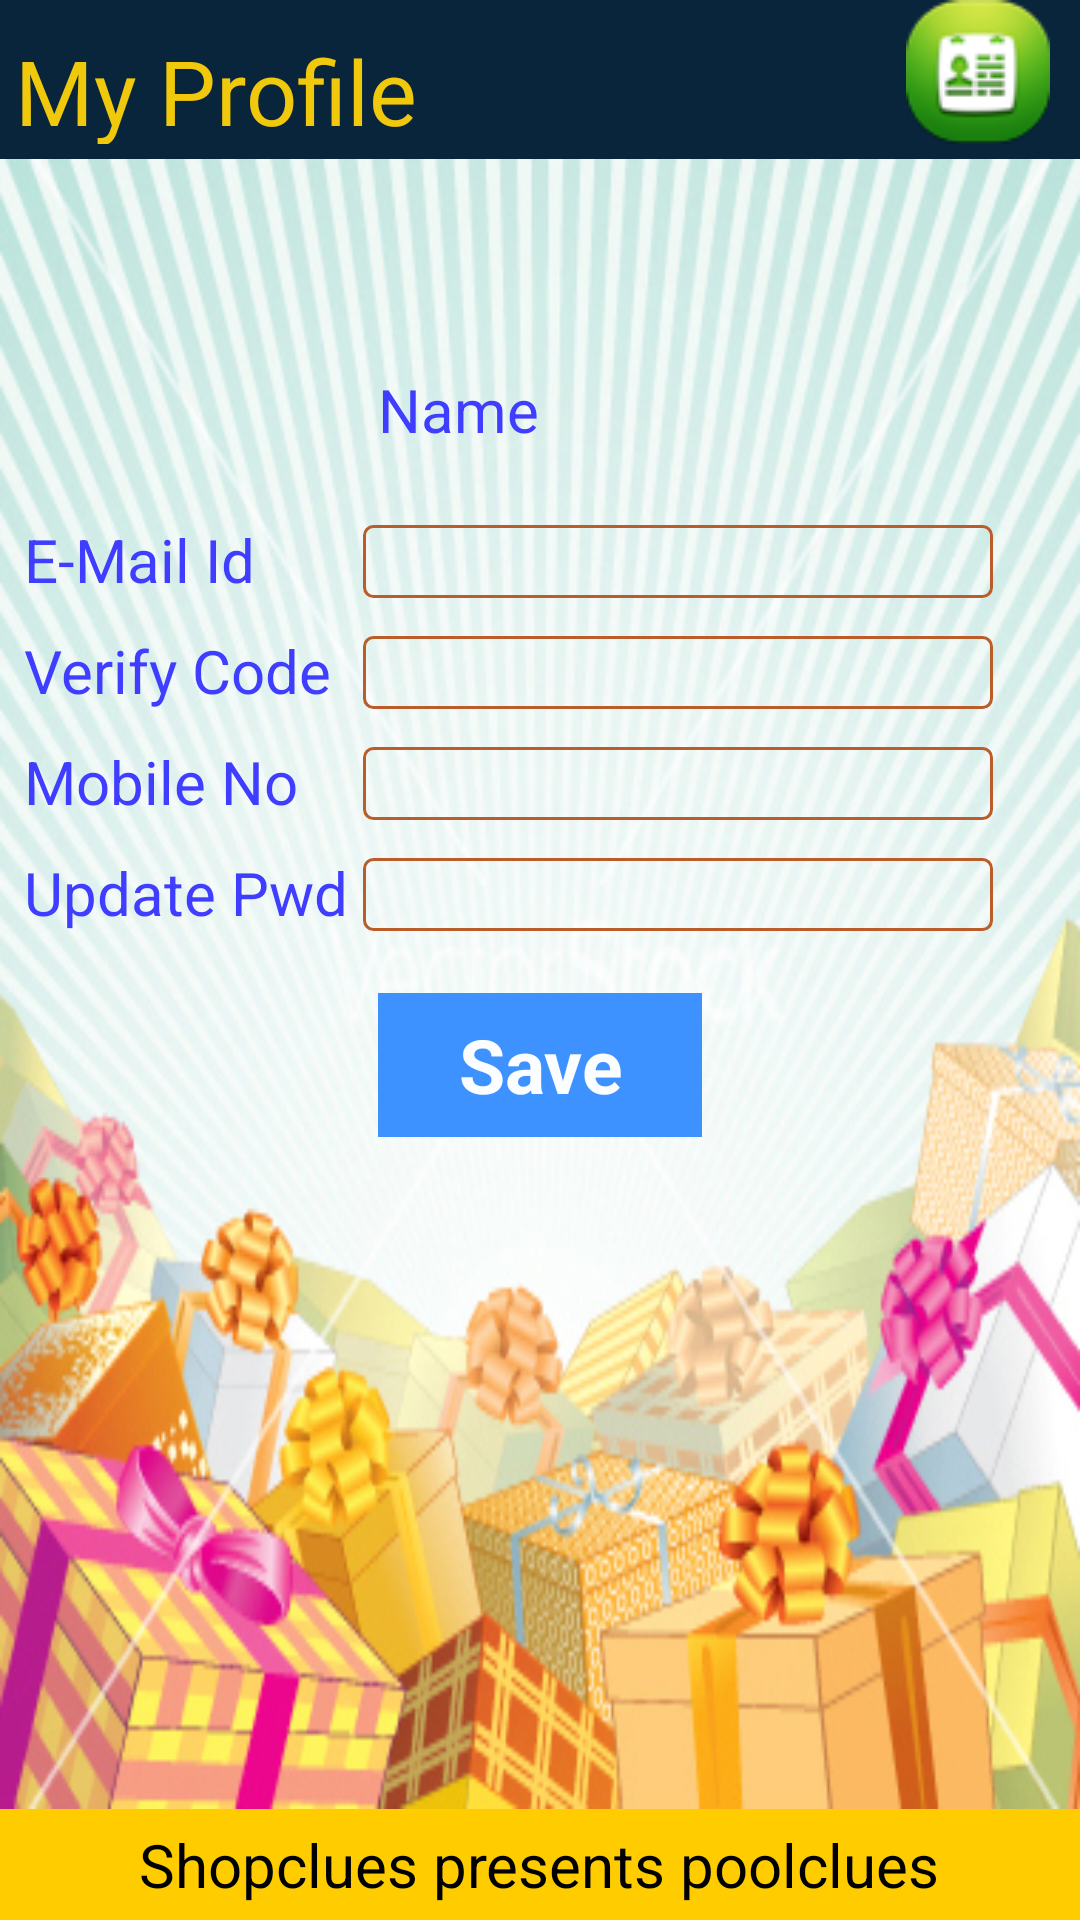

Screen size 1080*1920. Icon name, then its center in pixels as (x=x, y=y):
myprofile: (x=978, y=72)
